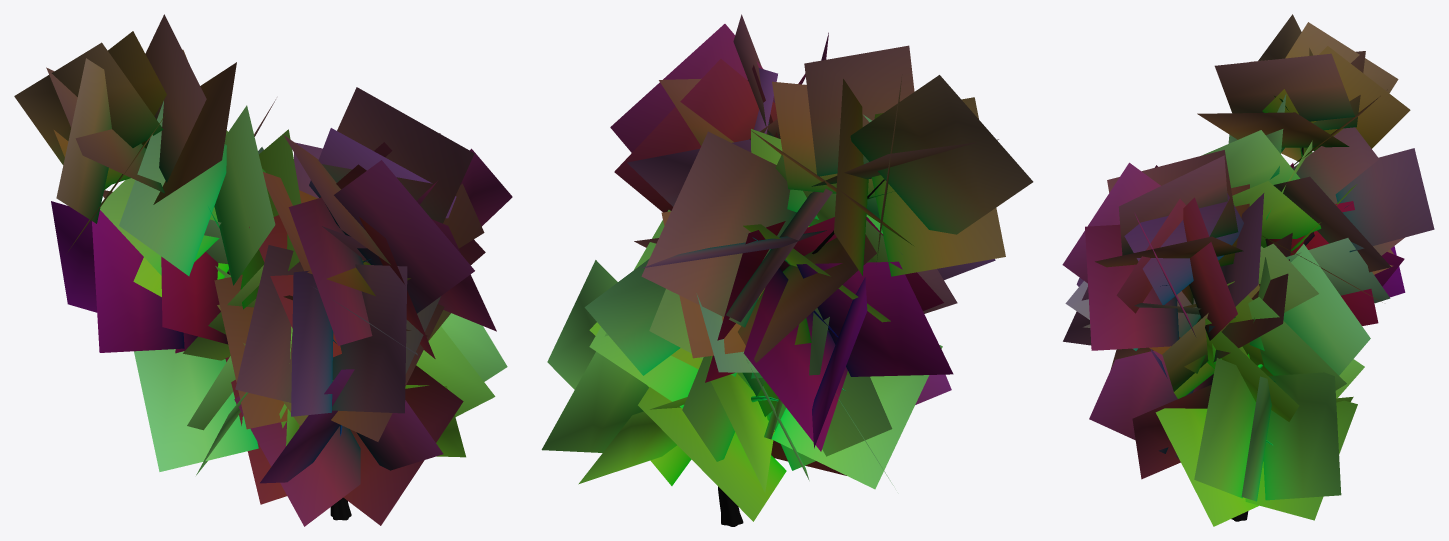
The model's file is URP_P15_Tree_7_LOD_0.fbx.
3 views of the same model, side by side, from view 1: azimuth 30°, elevation 25°; view 2: azimuth 150°, elevation 25°; view 3: azimuth 270°, elevation 25° (orthographic). The views are drawn at different scales.
Parts seen in each view (by area): view 1: Tree_7_LOD_0; view 2: Tree_7_LOD_0; view 3: Tree_7_LOD_0.
Boxes of the visible parts, left/top/right/bottom form: Tree_7_LOD_0: left=14, top=14, right=512, bottom=526; Tree_7_LOD_0: left=541, top=14, right=1033, bottom=526; Tree_7_LOD_0: left=1062, top=14, right=1434, bottom=526.
Size of the model in its own units: 672 by 704 by 572.
